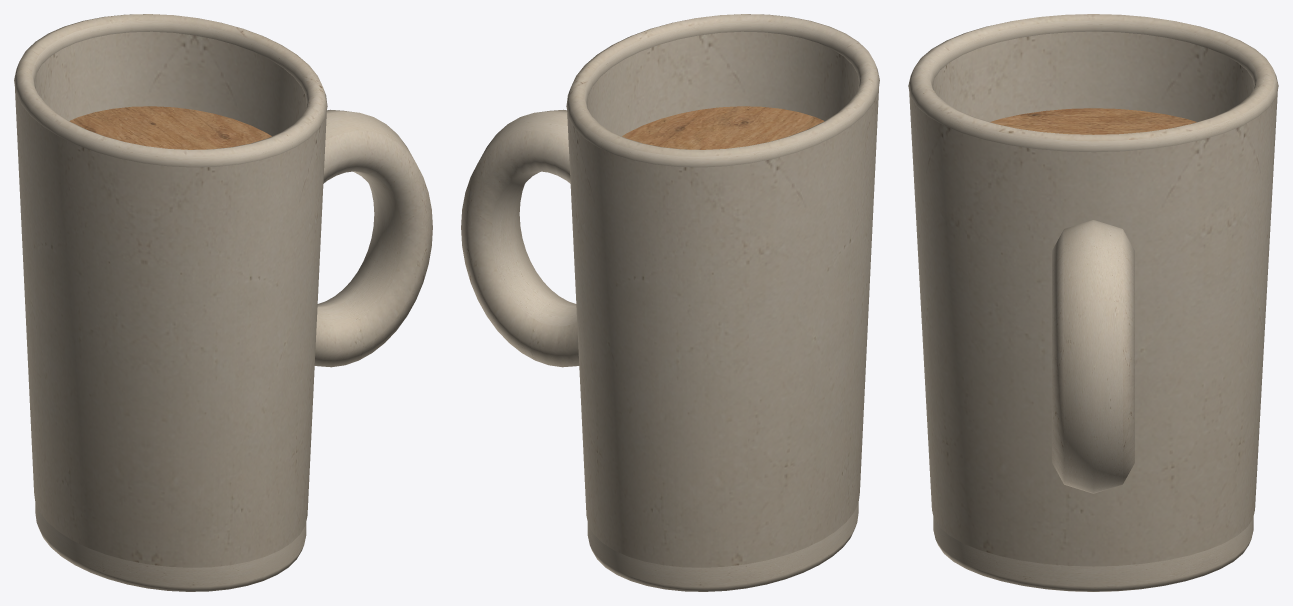
Rendered from SM_FacilityRooms_DeskMug.fbx.
3 renders of one model, left to right at view 1: azimuth 30°, elevation 25°; view 2: azimuth 150°, elevation 25°; view 3: azimuth 270°, elevation 25°, orthographic. The views are drawn at different scales.
Parts seen in each view (by area): view 1: SM_FacilityRooms_DeskMug; view 2: SM_FacilityRooms_DeskMug; view 3: SM_FacilityRooms_DeskMug.
Part boxes in pixels (x1,y1,x2,y2): SM_FacilityRooms_DeskMug: (14, 14, 432, 591); SM_FacilityRooms_DeskMug: (461, 14, 879, 591); SM_FacilityRooms_DeskMug: (908, 14, 1278, 591).
Size of what is drawn, in the model's own units: 16 by 13 by 18.
